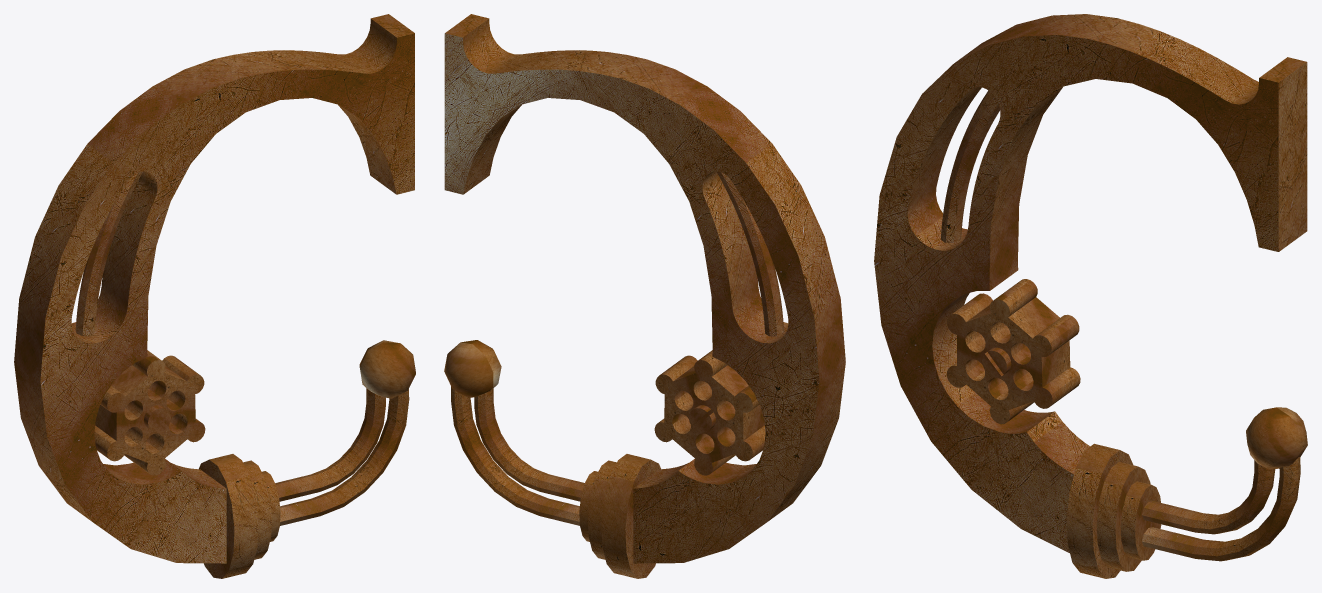
The picture shows the model from 3 angles, left to right: view 1: azimuth 30°, elevation 25°; view 2: azimuth 150°, elevation 25°; view 3: azimuth 330°, elevation 25°; orthographic projection. The views are drawn at different scales.
Visible parts, largest first — view 1: C, Tube_514, Tube_685, Tube_686, Arc006, Sphere_079, Tube_513, Tube_498, Screw_540; view 2: C, Tube_514, Tube_685, Tube_686, Arc006, Sphere_079, Tube_513, Tube_498, Screw_540; view 3: C, Tube_514, Tube_685, Tube_686, Arc006, Tube_513, Sphere_079, Tube_498, Screw_540.
Part boxes in pixels (x1=…): C: x1=14, y1=14, x2=414, y2=563; Tube_514: x1=199, y1=454, x2=258, y2=578; Tube_685: x1=280, y1=389, x2=409, y2=525; Tube_686: x1=275, y1=388, x2=385, y2=501; Arc006: x1=75, y1=171, x2=142, y2=336; Sphere_079: x1=359, y1=340, x2=415, y2=398; Tube_513: x1=243, y1=460, x2=271, y2=559; Tube_498: x1=262, y1=471, x2=280, y2=541; Screw_540: x1=144, y1=405, x2=170, y2=432; C: x1=444, y1=14, x2=845, y2=563; Tube_514: x1=601, y1=454, x2=660, y2=578; Tube_685: x1=451, y1=386, x2=579, y2=525; Tube_686: x1=474, y1=388, x2=584, y2=501; Arc006: x1=716, y1=171, x2=783, y2=336; Sphere_079: x1=444, y1=340, x2=501, y2=397; Tube_513: x1=588, y1=460, x2=616, y2=559; Tube_498: x1=579, y1=471, x2=597, y2=541; Screw_540: x1=689, y1=405, x2=715, y2=432; C: x1=874, y1=14, x2=1307, y2=552; Tube_514: x1=1066, y1=443, x2=1133, y2=578; Tube_685: x1=1142, y1=457, x2=1300, y2=561; Tube_686: x1=1142, y1=460, x2=1275, y2=534; Arc006: x1=941, y1=90, x2=999, y2=242; Tube_513: x1=1096, y1=462, x2=1150, y2=571; Sphere_079: x1=1246, y1=407, x2=1307, y2=468; Tube_498: x1=1120, y1=481, x2=1161, y2=560; Screw_540: x1=982, y1=347, x2=1011, y2=377.
Bounding box in the file's own units: 84.28 × 106 × 15.97.
1 material, 1 textured.
